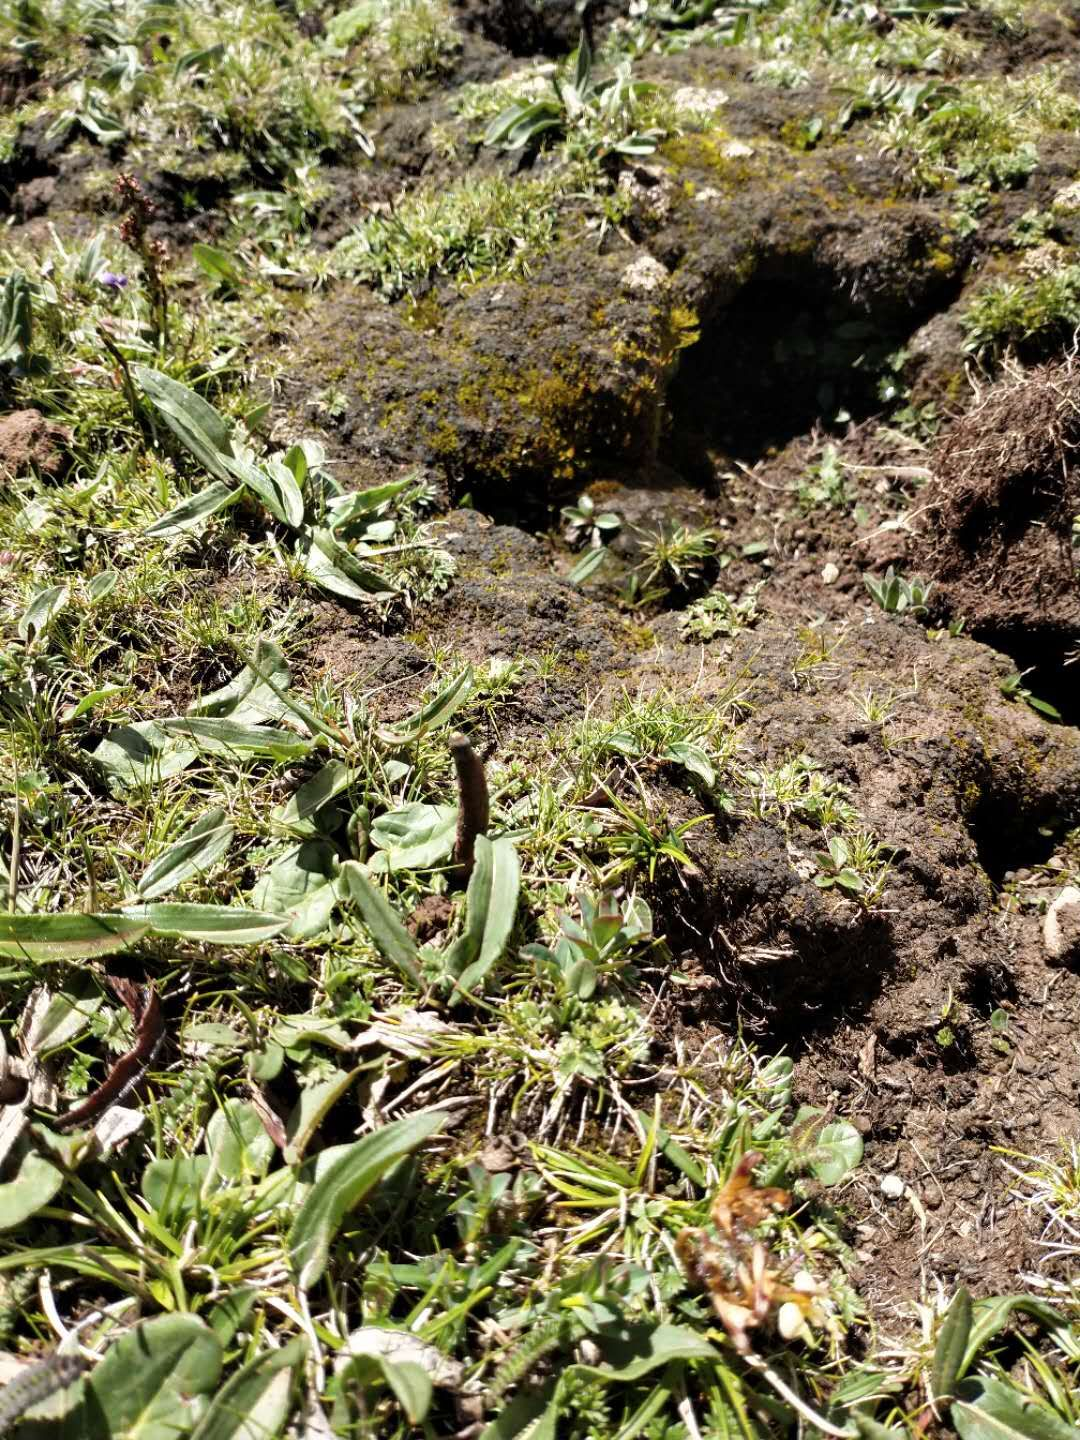Chongcao: (447, 730, 490, 876)
